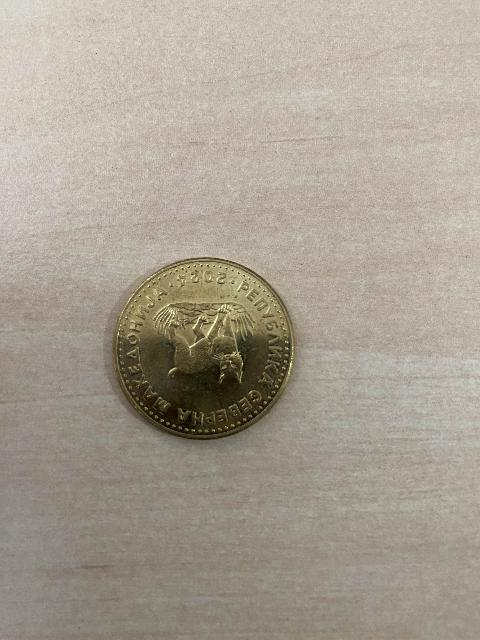5_coin: (114, 258, 293, 439)
